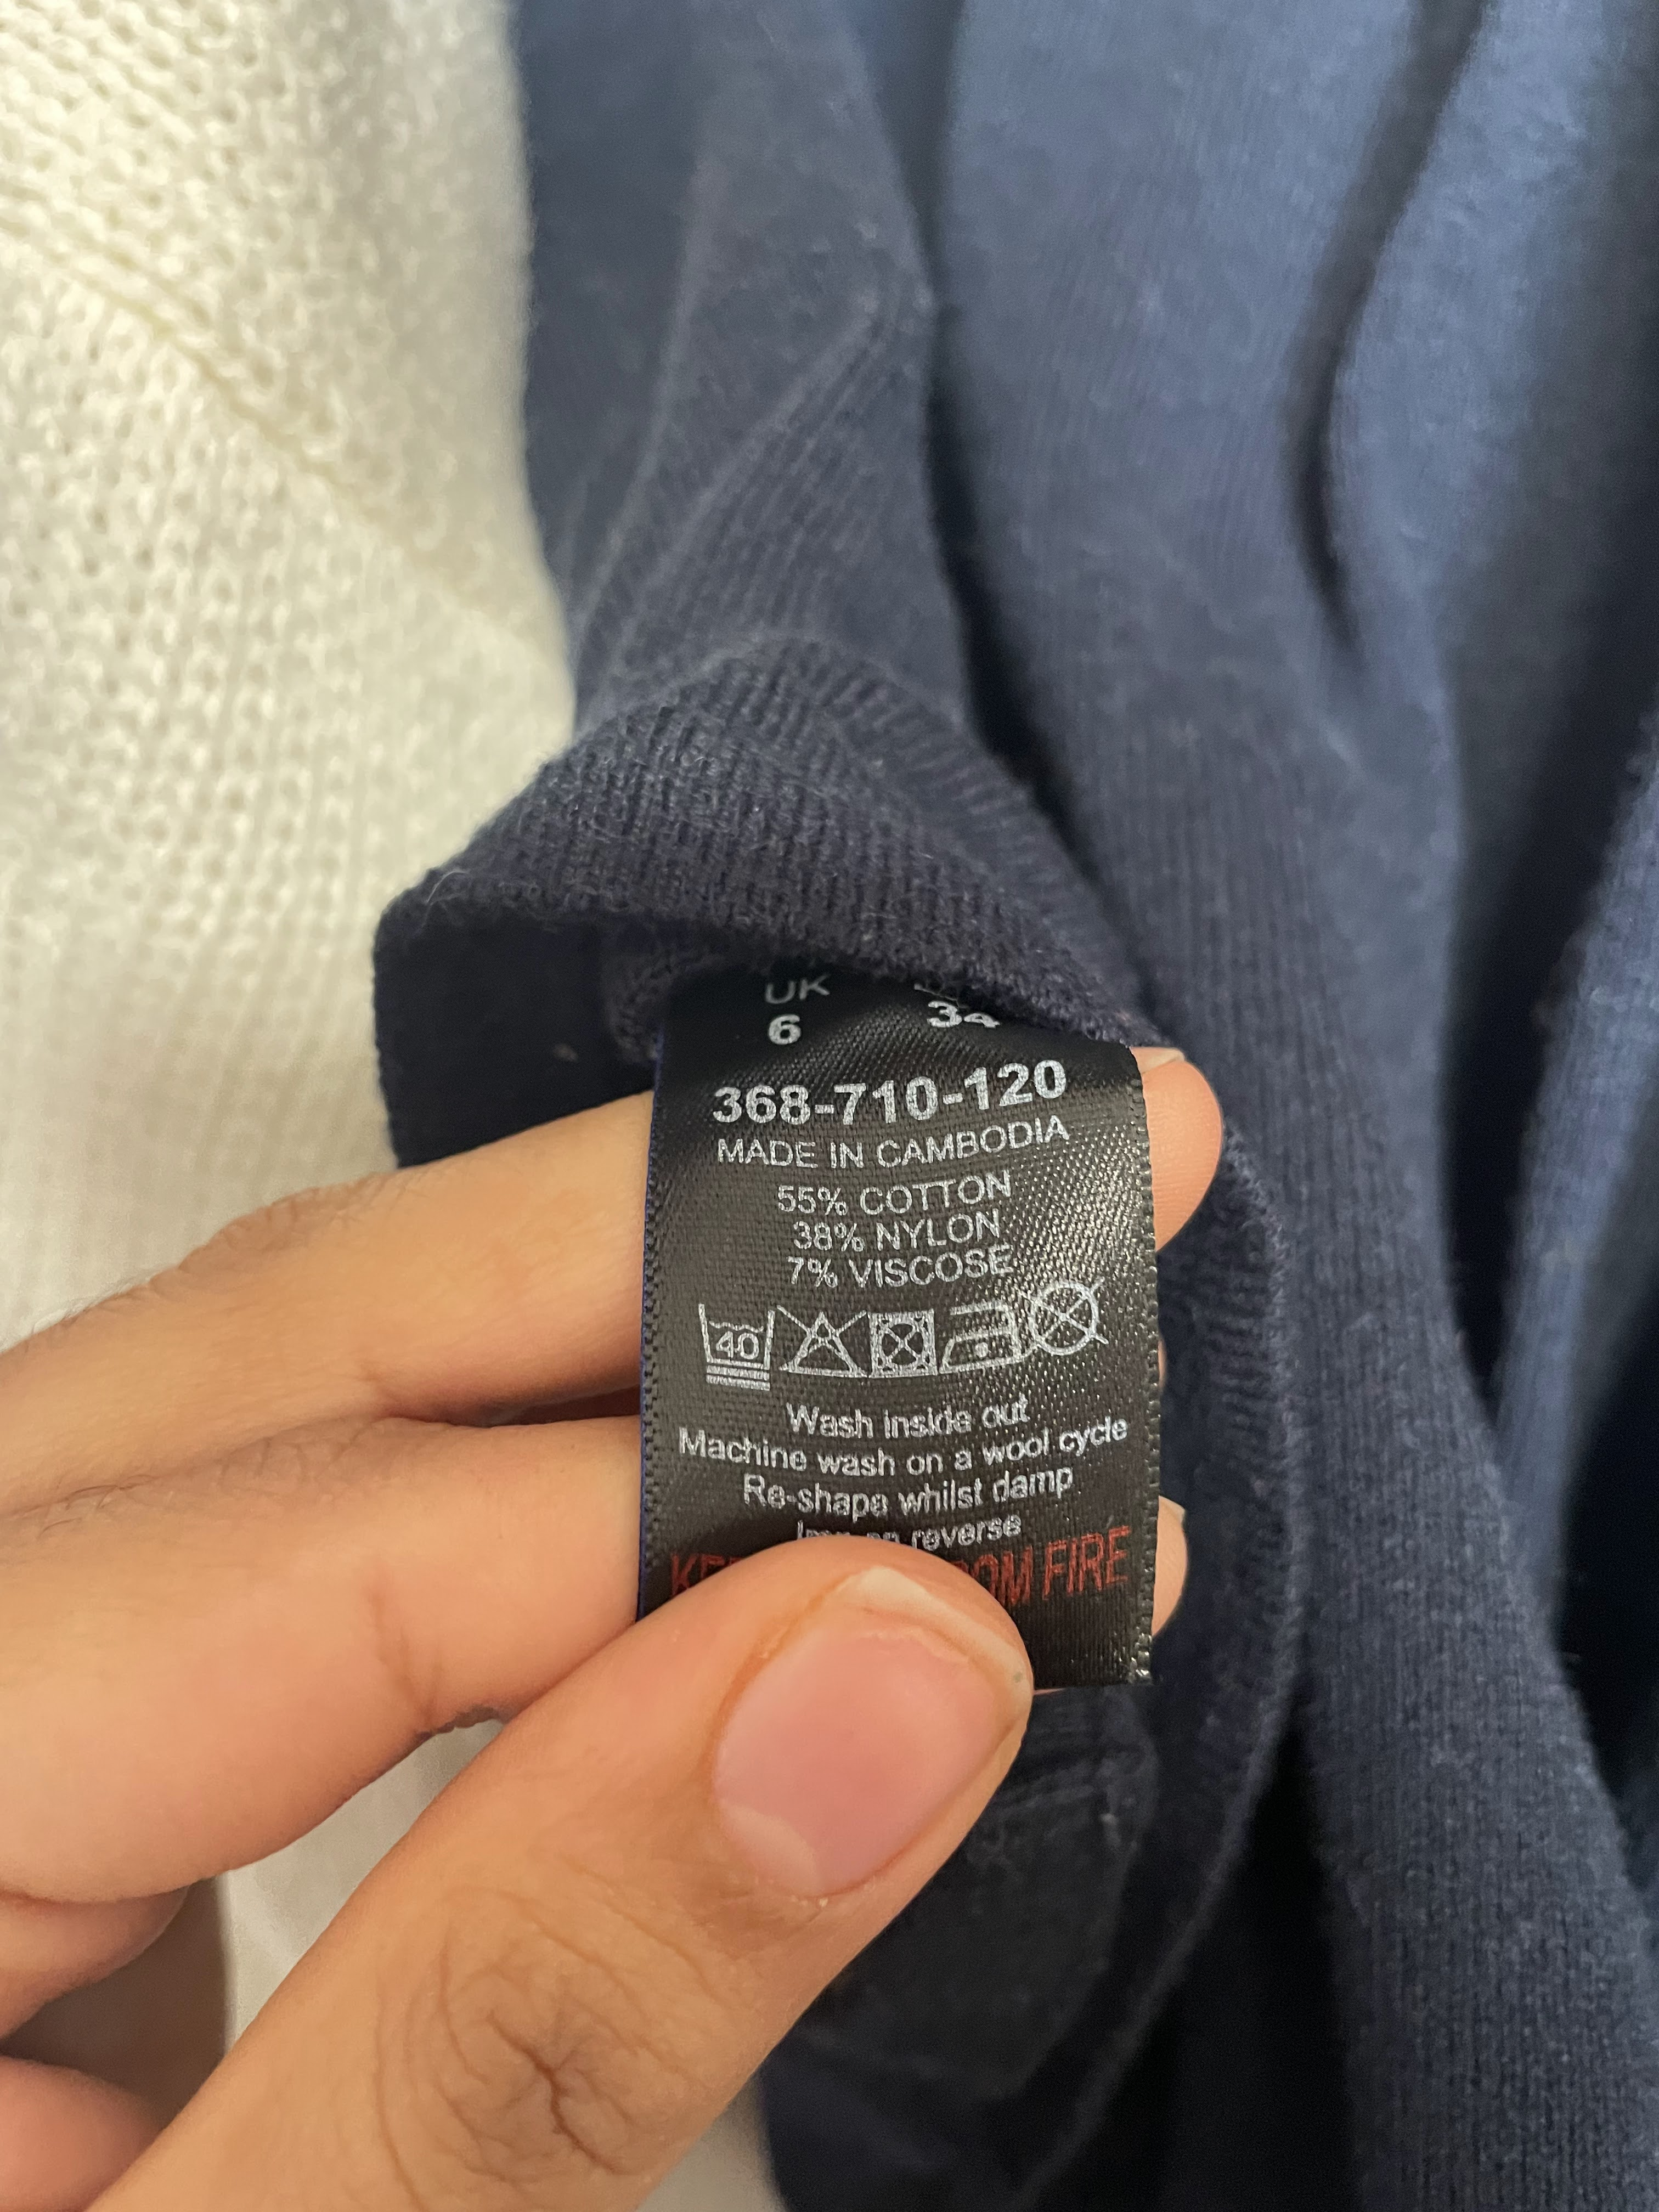do not bleach: (777, 1305, 859, 1392)
do not dry clean: (1021, 1282, 1133, 1376)
do not tumble dry: (866, 1298, 945, 1400)
iron low temp: (946, 1299, 1025, 1383)
wash at or below 40: (676, 1285, 791, 1409)
